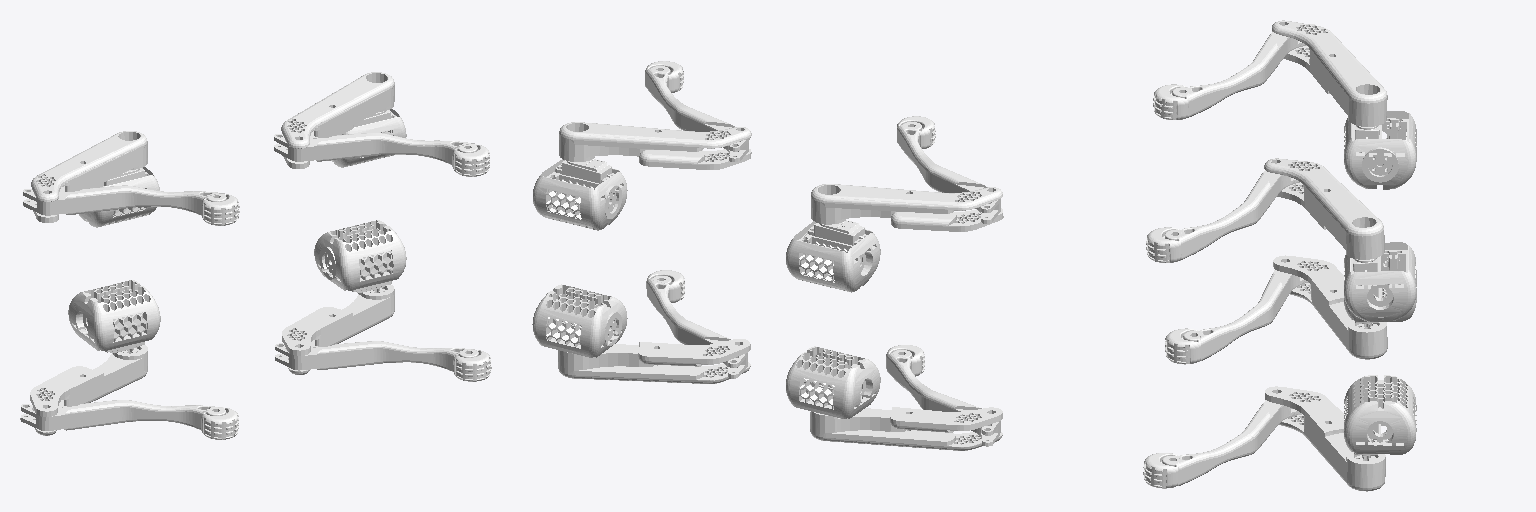
robot.urdf — Main Body URDF:
<?xml version="1.0" encoding="utf-8"?>
<!-- This URDF was automatically created by SolidWorks to URDF Exporter! Originally created by [author] ([email redacted]) 
     Commit Version: 1.6.0-4-g7f85cfe  Build Version: 1.6.7995.38578
     For more information, please see http://wiki.ros.org/sw_urdf_exporter -->
<robot
  name="Main Body URDF">
  <link
    name="base_link">
    <inertial>
      <origin
        xyz="-1.11022302462516E-16 -0.00302360042075001 -5.55111512312578E-17"
        rpy="0 0 0" />
      <mass
        value="0.315535261055246" />
      <inertia
        ixx="5.55978934043807E-05"
        ixy="-2.21301947020217E-21"
        ixz="2.86161333089283E-22"
        iyy="0.000227649084365836"
        iyz="-9.09924908316124E-21"
        izz="0.000187249617089345" />
    </inertial>
    <visual>
      <origin
        xyz="0 0 0"
        rpy="0 0 0" />
      <geometry>
        <mesh
          filename="package://Main Body URDF/meshes/base_link.STL" />
      </geometry>
      <material
        name="">
        <color
          rgba="1 1 1 1" />
      </material>
    </visual>
    <collision>
      <origin
        xyz="0 0 0"
        rpy="0 0 0" />
      <geometry>
        <mesh
          filename="package://Main Body URDF/meshes/base_link.STL" />
      </geometry>
    </collision>
  </link>
  <link
    name="fl_hip">
    <inertial>
      <origin
        xyz="0.0272971333033659 1.75159621585708E-05 0.00247430441137858"
        rpy="0 0 0" />
      <mass
        value="0.0474176719706317" />
      <inertia
        ixx="2.17411039399834E-05"
        ixy="-7.54915453759263E-09"
        ixz="-3.88620482540352E-07"
        iyy="3.26033730626776E-05"
        iyz="1.65166872304555E-07"
        izz="4.2637056945374E-05" />
    </inertial>
    <visual>
      <origin
        xyz="0 0 0"
        rpy="0 0 0" />
      <geometry>
        <mesh
          filename="package://Main Body URDF/meshes/fl_hip.STL" />
      </geometry>
      <material
        name="">
        <color
          rgba="1 1 1 1" />
      </material>
    </visual>
    <collision>
      <origin
        xyz="0 0 0"
        rpy="0 0 0" />
      <geometry>
        <mesh
          filename="package://Main Body URDF/meshes/fl_hip.STL" />
      </geometry>
    </collision>
  </link>
  <joint
    name="fl_hip"
    type="continuous">
    <origin
      xyz="0.0984 -0.0030292 -0.060681"
      rpy="0 0 0" />
    <parent
      link="base_link" />
    <child
      link="fl_hip" />
    <axis
      xyz="1 0 0" />
  </joint>
  <link
    name="fl_top">
    <inertial>
      <origin
        xyz="-0.0327093590748004 -0.0129114746104738 0.00626100034714228"
        rpy="0 0 0" />
      <mass
        value="0.139807399014711" />
      <inertia
        ixx="3.65926535985209E-05"
        ixy="-4.86382412840218E-05"
        ixz="1.9486191771268E-06"
        iyy="0.000125513458229608"
        iyz="1.26374835194812E-06"
        izz="0.000148862975841844" />
    </inertial>
    <visual>
      <origin
        xyz="0 0 0"
        rpy="0 0 0" />
      <geometry>
        <mesh
          filename="package://Main Body URDF/meshes/fl_top.STL" />
      </geometry>
      <material
        name="">
        <color
          rgba="1 1 1 1" />
      </material>
    </visual>
    <collision>
      <origin
        xyz="0 0 0"
        rpy="0 0 0" />
      <geometry>
        <mesh
          filename="package://Main Body URDF/meshes/fl_top.STL" />
      </geometry>
    </collision>
  </link>
  <joint
    name="fl_top"
    type="continuous">
    <origin
      xyz="0.0386 -0.011483 -0.032232"
      rpy="0 0 0" />
    <parent
      link="fl_hip" />
    <child
      link="fl_top" />
    <axis
      xyz="0 -0.01495 -0.99989" />
  </joint>
  <link
    name="fl_bottom">
    <inertial>
      <origin
        xyz="0.078482158861255 -0.0448672466577361 0.00348748963952544"
        rpy="0 0 0" />
      <mass
        value="0.0474313349742766" />
      <inertia
        ixx="2.61536457002355E-05"
        ixy="3.60251937346389E-05"
        ixz="-5.38425820651276E-07"
        iyy="6.08830489314348E-05"
        iyz="3.54056592344967E-07"
        izz="8.45670496666924E-05" />
    </inertial>
    <visual>
      <origin
        xyz="0 0 0"
        rpy="0 0 0" />
      <geometry>
        <mesh
          filename="package://Main Body URDF/meshes/fl_bottom.STL" />
      </geometry>
      <material
        name="">
        <color
          rgba="1 1 1 1" />
      </material>
    </visual>
    <collision>
      <origin
        xyz="0 0 0"
        rpy="0 0 0" />
      <geometry>
        <mesh
          filename="package://Main Body URDF/meshes/fl_bottom.STL" />
      </geometry>
    </collision>
  </link>
  <joint
    name="fl_bottom"
    type="continuous">
    <origin
      xyz="-0.12132 -0.072387 -0.013569"
      rpy="0 0 0" />
    <parent
      link="fl_top" />
    <child
      link="fl_bottom" />
    <axis
      xyz="0 -0.01495 -0.99989" />
  </joint>
  <link
    name="fr_hip">
    <inertial>
      <origin
        xyz="0.027297131982034 9.90275998717094E-05 -0.00247238563061042"
        rpy="0 0 0" />
      <mass
        value="0.0474176723475862" />
      <inertia
        ixx="2.17411062531901E-05"
        ixy="-1.07632885592874E-08"
        ixz="3.88545769681232E-07"
        iyy="3.26100851697042E-05"
        iyz="-3.07652923389513E-07"
        izz="4.26303515792848E-05" />
    </inertial>
    <visual>
      <origin
        xyz="0 0 0"
        rpy="0 0 0" />
      <geometry>
        <mesh
          filename="package://Main Body URDF/meshes/fr_hip.STL" />
      </geometry>
      <material
        name="">
        <color
          rgba="1 1 1 1" />
      </material>
    </visual>
    <collision>
      <origin
        xyz="0 0 0"
        rpy="0 0 0" />
      <geometry>
        <mesh
          filename="package://Main Body URDF/meshes/fr_hip.STL" />
      </geometry>
    </collision>
  </link>
  <joint
    name="fr_hip"
    type="continuous">
    <origin
      xyz="0.0984 -0.0030292 0.060681"
      rpy="0 0 0" />
    <parent
      link="base_link" />
    <child
      link="fr_hip" />
    <axis
      xyz="1 0 0" />
  </joint>
  <link
    name="fr_top">
    <inertial>
      <origin
        xyz="-0.0327864495707164 -0.0126313769769459 -0.00647693886353867"
        rpy="0 0 0" />
      <mass
        value="0.139807219355074" />
      <inertia
        ixx="3.60145763368299E-05"
        ixy="-4.80987732569624E-05"
        ixz="-2.77517694329877E-06"
        iyy="0.000126140761129269"
        iyz="-1.63921611186352E-06"
        izz="0.000148813501843454" />
    </inertial>
    <visual>
      <origin
        xyz="0 0 0"
        rpy="0 0 0" />
      <geometry>
        <mesh
          filename="package://Main Body URDF/meshes/fr_top.STL" />
      </geometry>
      <material
        name="">
        <color
          rgba="1 1 1 1" />
      </material>
    </visual>
    <collision>
      <origin
        xyz="0 0 0"
        rpy="0 0 0" />
      <geometry>
        <mesh
          filename="package://Main Body URDF/meshes/fr_top.STL" />
      </geometry>
    </collision>
  </link>
  <joint
    name="fr_top"
    type="continuous">
    <origin
      xyz="0.0381 -0.012136 0.032026"
      rpy="0 0 0" />
    <parent
      link="fr_hip" />
    <child
      link="fr_top" />
    <axis
      xyz="0 -0.032164 0.99948" />
  </joint>
  <link
    name="fr_bottom">
    <inertial>
      <origin
        xyz="0.0791469661032436 -0.0433740165808617 -0.0042133669017476"
        rpy="0 0 0" />
      <mass
        value="0.047431300905697" />
      <inertia
        ixx="2.48656407351239E-05"
        ixy="3.53612962863047E-05"
        ixz="1.13817640664229E-06"
        iyy="6.21887613940631E-05"
        iyz="-7.20454050525757E-07"
        izz="8.45489651842451E-05" />
    </inertial>
    <visual>
      <origin
        xyz="0 0 0"
        rpy="0 0 0" />
      <geometry>
        <mesh
          filename="package://Main Body URDF/meshes/fr_bottom.STL" />
      </geometry>
      <material
        name="">
        <color
          rgba="1 1 1 1" />
      </material>
    </visual>
    <collision>
      <origin
        xyz="0 0 0"
        rpy="0 0 0" />
      <geometry>
        <mesh
          filename="package://Main Body URDF/meshes/fr_bottom.STL" />
      </geometry>
    </collision>
  </link>
  <joint
    name="fr_bottom"
    type="continuous">
    <origin
      xyz="-0.121749494844511 -0.0718844345331731 0.0123443050311544"
      rpy="0 0 0" />
    <parent
      link="fr_top" />
    <child
      link="fr_bottom" />
    <axis
      xyz="0 -0.0321638727308673 0.999482608798649" />
  </joint>
  <link
    name="br_hip">
    <inertial>
      <origin
        xyz="-0.0272971344226925 -6.43744326411511E-05 -0.00247351850938268"
        rpy="0 0 0" />
      <mass
        value="0.0474176686622597" />
      <inertia
        ixx="2.17411069156438E-05"
        ixy="-5.31705130526738E-09"
        ixz="-3.88657711748625E-07"
        iyy="3.26034343522744E-05"
        iyz="1.67117958442211E-07"
        izz="4.26370068764065E-05" />
    </inertial>
    <visual>
      <origin
        xyz="0 0 0"
        rpy="0 0 0" />
      <geometry>
        <mesh
          filename="package://Main Body URDF/meshes/br_hip.STL" />
      </geometry>
      <material
        name="">
        <color
          rgba="1 1 1 1" />
      </material>
    </visual>
    <collision>
      <origin
        xyz="0 0 0"
        rpy="0 0 0" />
      <geometry>
        <mesh
          filename="package://Main Body URDF/meshes/br_hip.STL" />
      </geometry>
    </collision>
  </link>
  <joint
    name="br_hip"
    type="continuous">
    <origin
      xyz="-0.0984 -0.0030292 0.060681"
      rpy="0 0 0" />
    <parent
      link="base_link" />
    <child
      link="br_hip" />
    <axis
      xyz="-1 0 0" />
  </joint>
  <link
    name="br_top">
    <inertial>
      <origin
        xyz="-0.0331307458806611 -0.0121448427162066 -0.00584779936915039"
        rpy="0 0 0" />
      <mass
        value="0.139807219513831" />
      <inertia
        ixx="3.34135369969368E-05"
        ixy="-4.57757281094289E-05"
        ixz="-4.20400289917178E-07"
        iyy="0.000128634824886818"
        iyz="-5.05556246790766E-07"
        izz="0.000148920477468448" />
    </inertial>
    <visual>
      <origin
        xyz="0 0 0"
        rpy="0 0 0" />
      <geometry>
        <mesh
          filename="package://Main Body URDF/meshes/br_top.STL" />
      </geometry>
      <material
        name="">
        <color
          rgba="1 1 1 1" />
      </material>
    </visual>
    <collision>
      <origin
        xyz="0 0 0"
        rpy="0 0 0" />
      <geometry>
        <mesh
          filename="package://Main Body URDF/meshes/br_top.STL" />
      </geometry>
    </collision>
  </link>
  <joint
    name="br_top"
    type="continuous">
    <origin
      xyz="-0.0186000000001146 -0.0104099959720499 0.0325943550920316"
      rpy="0 0 0" />
    <parent
      link="br_hip" />
    <child
      link="br_top" />
    <axis
      xyz="0 0.0181540508072637 0.999835201640394" />
  </joint>
  <link
    name="br_bottom">
    <inertial>
      <origin
        xyz="0.0791720299116837 -0.043485483448343 -0.00202700123300074"
        rpy="0 0 0" />
      <mass
        value="0.0474313351974432" />
      <inertia
        ixx="2.48249541491992E-05"
        ixy="3.53523648270132E-05"
        ixz="-6.41679591763938E-07"
        iyy="6.22138157655498E-05"
        iyz="4.05829964915507E-07"
        izz="8.45649759822488E-05" />
    </inertial>
    <visual>
      <origin
        xyz="0 0 0"
        rpy="0 0 0" />
      <geometry>
        <mesh
          filename="package://Main Body URDF/meshes/br_bottom.STL" />
      </geometry>
      <material
        name="">
        <color
          rgba="1 1 1 1" />
      </material>
    </visual>
    <collision>
      <origin
        xyz="0 0 0"
        rpy="0 0 0" />
      <geometry>
        <mesh
          filename="package://Main Body URDF/meshes/br_bottom.STL" />
      </geometry>
    </collision>
  </link>
  <joint
    name="br_bottom"
    type="continuous">
    <origin
      xyz="-0.12368 -0.067775 0.015883"
      rpy="0 0 0" />
    <parent
      link="br_top" />
    <child
      link="br_bottom" />
    <axis
      xyz="0 0.018154 0.99984" />
  </joint>
  <link
    name="bl_hip">
    <inertial>
      <origin
        xyz="-0.0272971324067885 -3.03826091760384E-05 0.00247418544860611"
        rpy="0 0 0" />
      <mass
        value="0.0474176737292142" />
      <inertia
        ixx="2.17411030263018E-05"
        ixy="-9.5701323711005E-09"
        ixz="3.88576084639885E-07"
        iyy="3.26053625381511E-05"
        iyz="-2.17344053344976E-07"
        izz="4.2635063560594E-05" />
    </inertial>
    <visual>
      <origin
        xyz="0 0 0"
        rpy="0 0 0" />
      <geometry>
        <mesh
          filename="package://Main Body URDF/meshes/bl_hip.STL" />
      </geometry>
      <material
        name="">
        <color
          rgba="1 1 1 1" />
      </material>
    </visual>
    <collision>
      <origin
        xyz="0 0 0"
        rpy="0 0 0" />
      <geometry>
        <mesh
          filename="package://Main Body URDF/meshes/bl_hip.STL" />
      </geometry>
    </collision>
  </link>
  <joint
    name="bl_hip"
    type="continuous">
    <origin
      xyz="-0.0984 -0.00302922105364486 -0.0606811932633948"
      rpy="0 0 0" />
    <parent
      link="base_link" />
    <child
      link="bl_hip" />
    <axis
      xyz="-1 0 0" />
  </joint>
  <link
    name="bl_top">
    <inertial>
      <origin
        xyz="-0.0332919917737501 -0.011761405740684 0.00583145711228239"
        rpy="0 0 0" />
      <mass
        value="0.139807399049" />
      <inertia
        ixx="3.21840569388915E-05"
        ixy="-4.4543175426684E-05"
        ixz="3.65621400096592E-07"
        iyy="0.000129862688192871"
        iyz="4.73135842246664E-07"
        izz="0.000148922342306775" />
    </inertial>
    <visual>
      <origin
        xyz="0 0 0"
        rpy="0 0 0" />
      <geometry>
        <mesh
          filename="package://Main Body URDF/meshes/bl_top.STL" />
      </geometry>
      <material
        name="">
        <color
          rgba="1 1 1 1" />
      </material>
    </visual>
    <collision>
      <origin
        xyz="0 0 0"
        rpy="0 0 0" />
      <geometry>
        <mesh
          filename="package://Main Body URDF/meshes/bl_top.STL" />
      </geometry>
    </collision>
  </link>
  <joint
    name="bl_top"
    type="continuous">
    <origin
      xyz="-0.0181000000001183 -0.0103448839199625 -0.0326150789771615"
      rpy="0 0 0" />
    <parent
      link="bl_hip" />
    <child
      link="bl_top" />
    <axis
      xyz="0 0.0201506967677564 -0.999796954096067" />
  </joint>
  <link
    name="bl_bottom">
    <inertial>
      <origin
        xyz="0.0817269974185858 -0.0387448949191614 0.00203600565191636"
        rpy="0 0 0" />
      <mass
        value="0.0474313022831092" />
      <inertia
        ixx="2.07936948016118E-05"
        ixy="3.29061979419238E-05"
        ixz="6.63457157491476E-07"
        iyy="6.62449710559728E-05"
        iyz="-3.69511557204602E-07"
        izz="8.45647068879262E-05" />
    </inertial>
    <visual>
      <origin
        xyz="0 0 0"
        rpy="0 0 0" />
      <geometry>
        <mesh
          filename="package://Main Body URDF/meshes/bl_bottom.STL" />
      </geometry>
      <material
        name="">
        <color
          rgba="1 1 1 1" />
      </material>
    </visual>
    <collision>
      <origin
        xyz="0 0 0"
        rpy="0 0 0" />
      <geometry>
        <mesh
          filename="package://Main Body URDF/meshes/bl_bottom.STL" />
      </geometry>
    </collision>
  </link>
  <joint
    name="bl_bottom"
    type="continuous">
    <origin
      xyz="-0.124595939429202 -0.0660533751871663 -0.0159842670738399"
      rpy="0 0 0" />
    <parent
      link="bl_top" />
    <child
      link="bl_bottom" />
    <axis
      xyz="0 0.0201506967677544 -0.999796954096068" />
  </joint>
</robot>

--- Render facts (derived) ---
Views: 3 orthographic renders of the robot side by side, from view 1: azimuth 30°, elevation 25°; view 2: azimuth 150°, elevation 25°; view 3: azimuth 270°, elevation 25°.
Model Main Body URDF with 13 links and 12 joints (12 continuous), rooted at base_link, posed every joint at zero.
Links seen in each view (by area): view 1: bl_hip, fr_top, fl_hip, bl_bottom, br_top, fr_bottom, br_bottom, fl_bottom, bl_top, fl_top, br_hip, fr_hip; view 2: br_top, fr_top, fl_top, bl_top, fl_hip, bl_hip, fr_hip, br_hip, br_bottom, fr_bottom, fl_bottom, bl_bottom; view 3: fr_top, br_top, fl_hip, fl_top, bl_top, br_hip, fr_hip, fl_bottom, fr_bottom, br_bottom, bl_bottom.
Link boxes in pixels (left/top/right/bottom): bl_hip: left=68, top=280, right=160, bottom=350; fr_top: left=281, top=72, right=396, bottom=168; fl_hip: left=314, top=220, right=406, bottom=290; bl_bottom: left=20, top=400, right=238, bottom=439; br_top: left=31, top=131, right=149, bottom=222; fr_bottom: left=274, top=133, right=489, bottom=176; br_bottom: left=23, top=185, right=239, bottom=225; fl_bottom: left=275, top=341, right=491, bottom=381; bl_top: left=30, top=314, right=147, bottom=435; fl_top: left=282, top=252, right=394, bottom=374; br_hip: left=79, top=167, right=159, bottom=227; fr_hip: left=331, top=109, right=406, bottom=167; br_top: left=808, top=184, right=1003, bottom=264; fr_top: left=555, top=122, right=751, bottom=204; fl_top: left=558, top=321, right=750, bottom=383; bl_top: left=810, top=383, right=1002, bottom=450; fl_hip: left=532, top=284, right=627, bottom=357; bl_hip: left=786, top=346, right=880, bottom=418; fr_hip: left=533, top=159, right=627, bottom=230; br_hip: left=786, top=221, right=880, bottom=292; br_bottom: left=897, top=116, right=1000, bottom=223; fr_bottom: left=645, top=61, right=749, bottom=161; fl_bottom: left=646, top=270, right=747, bottom=378; bl_bottom: left=886, top=345, right=1000, bottom=446; fr_top: left=1264, top=158, right=1384, bottom=297; br_top: left=1272, top=20, right=1387, bottom=139; fl_hip: left=1344, top=375, right=1416, bottom=454; fl_top: left=1265, top=386, right=1385, bottom=491; bl_top: left=1273, top=255, right=1387, bottom=359; br_hip: left=1344, top=111, right=1416, bottom=189; fr_hip: left=1344, top=242, right=1415, bottom=321; fl_bottom: left=1143, top=400, right=1301, bottom=488; fr_bottom: left=1146, top=170, right=1299, bottom=262; br_bottom: left=1153, top=24, right=1314, bottom=119; bl_bottom: left=1165, top=270, right=1308, bottom=364.
Size in the robot's own frame: 0.4151 by 0.2212 by 0.2381 metres.
12 mesh visuals loaded from 13 distinct referenced files (12 binary STL); not drawn: 1 (file found but could not be loaded).